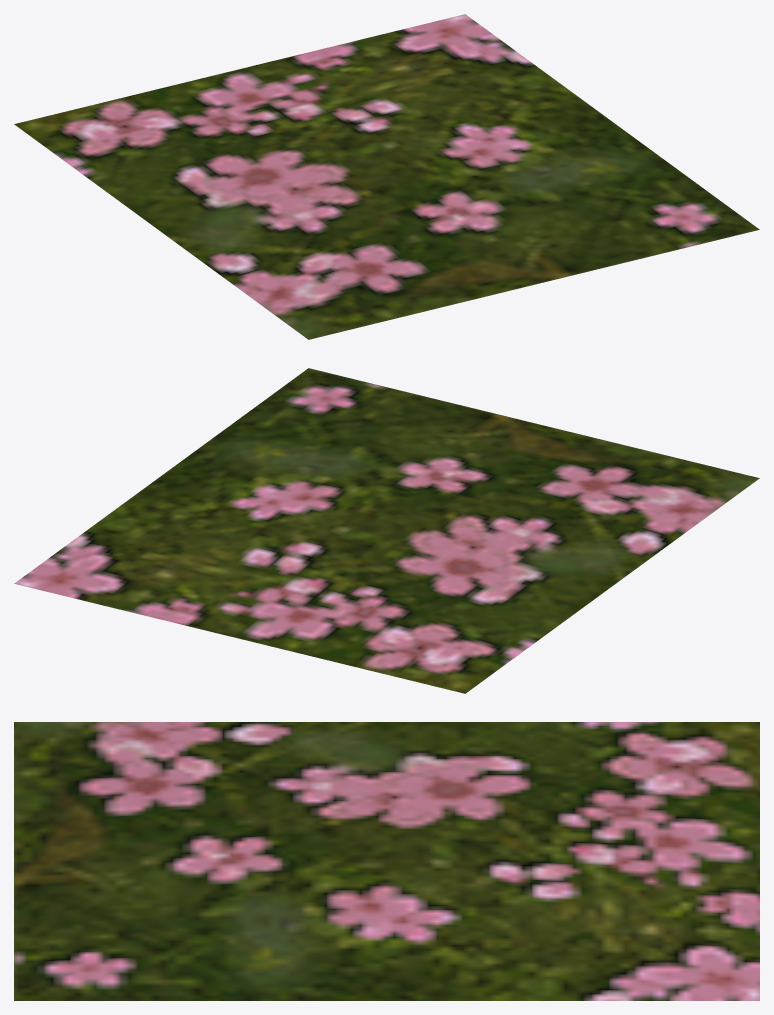
The model's file is i_zx_taohuaban02.FBX.
The picture shows the model from 3 angles, top to bottom: view 1: azimuth 30°, elevation 25°; view 2: azimuth 150°, elevation 25°; view 3: azimuth 270°, elevation 25°; orthographic projection. The views are drawn at different scales.
Visible parts, largest first — view 1: i_zx_taohuaban02; view 2: i_zx_taohuaban02; view 3: i_zx_taohuaban02.
Boxes of the visible parts, x1,y1,x2,y2 form: i_zx_taohuaban02: (14,14,759,339); i_zx_taohuaban02: (14,368,759,693); i_zx_taohuaban02: (14,722,759,1000).
Size of the model in its own units: 1.05 by 0.0271 by 1.19.
